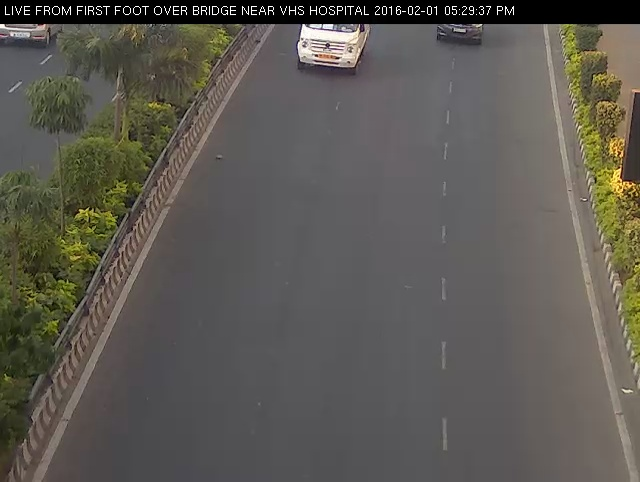Bus: (278, 17, 378, 79)
Car: (426, 14, 495, 52)
